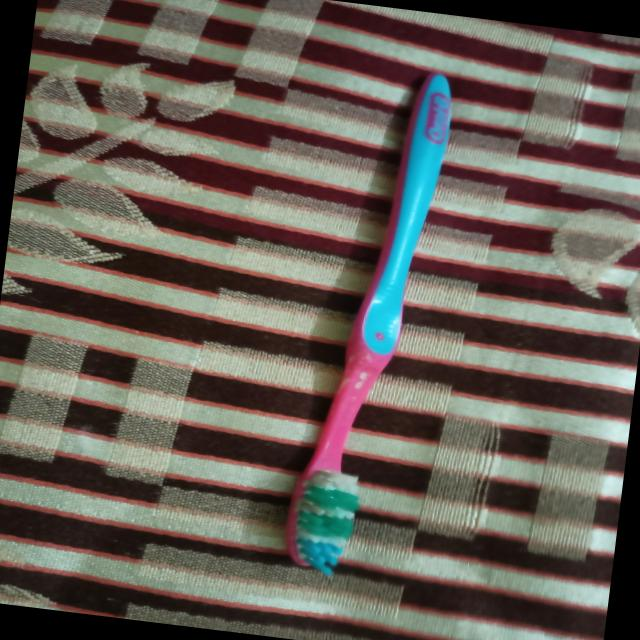pen: (263, 51, 502, 586)
